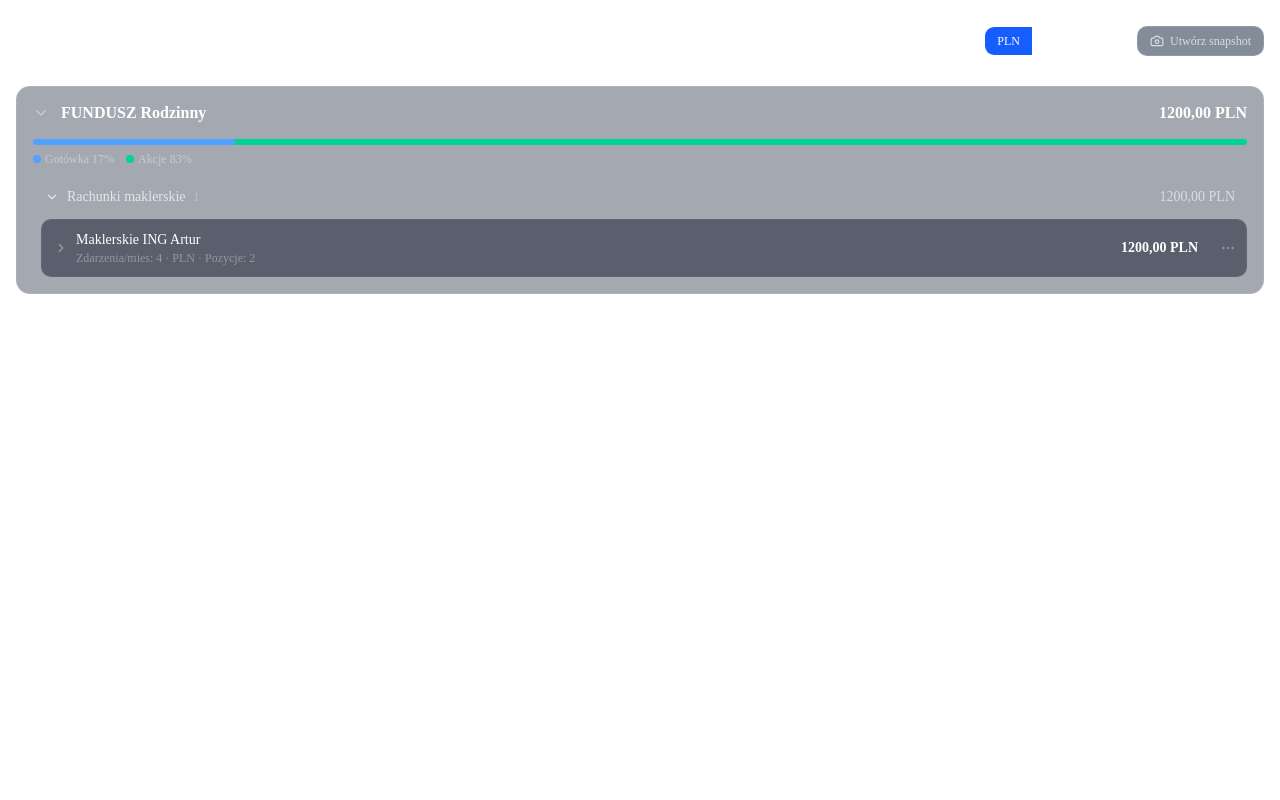
Test: WalletManagerPage › shows brokerage cash, positions and total with converted cash subaccounts
The image size is (1280, 800).
Click the button with aria-label "Pokaż szczegóły Maklerskie ING Artur" at point(138, 240), box [42, 220, 1210, 276]
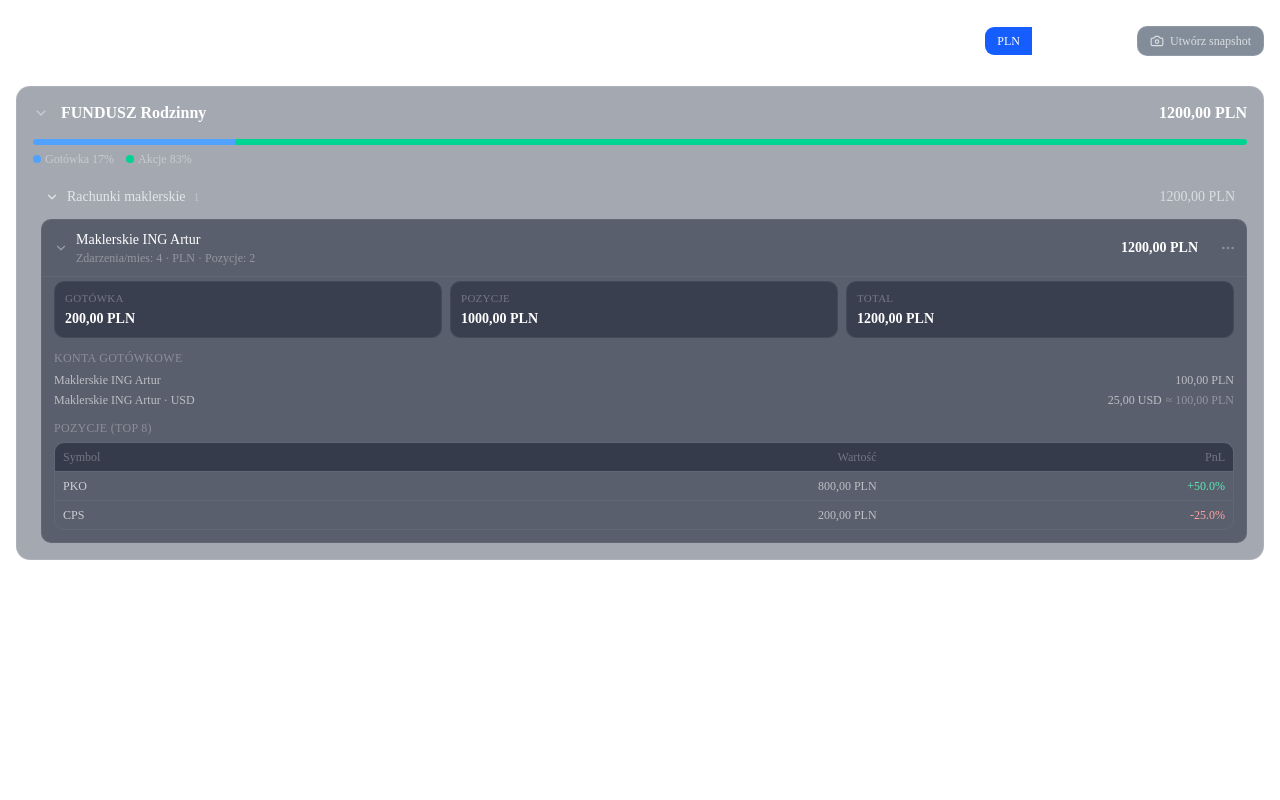
Expected: the text "Gotówka" is shown, [65, 292, 124, 304]
Expected: the text "Pozycje" is shown, [461, 292, 510, 304]
Expected: the text "Total" is shown, [857, 292, 893, 304]
